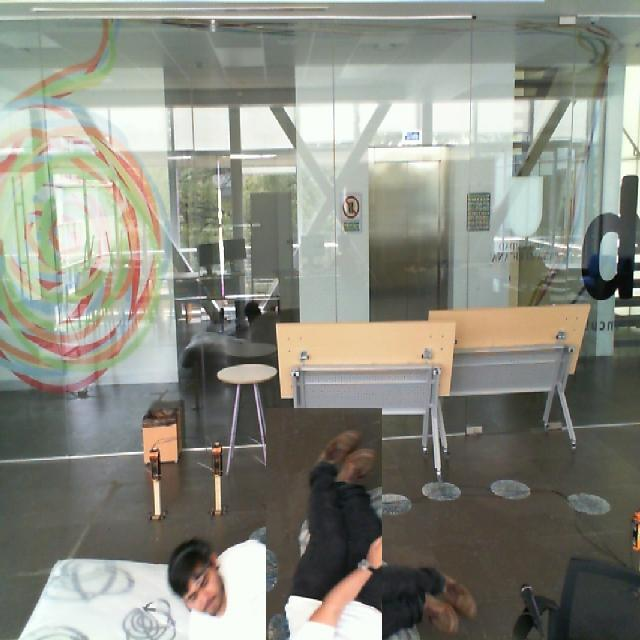Fall: (131, 539, 336, 640)
